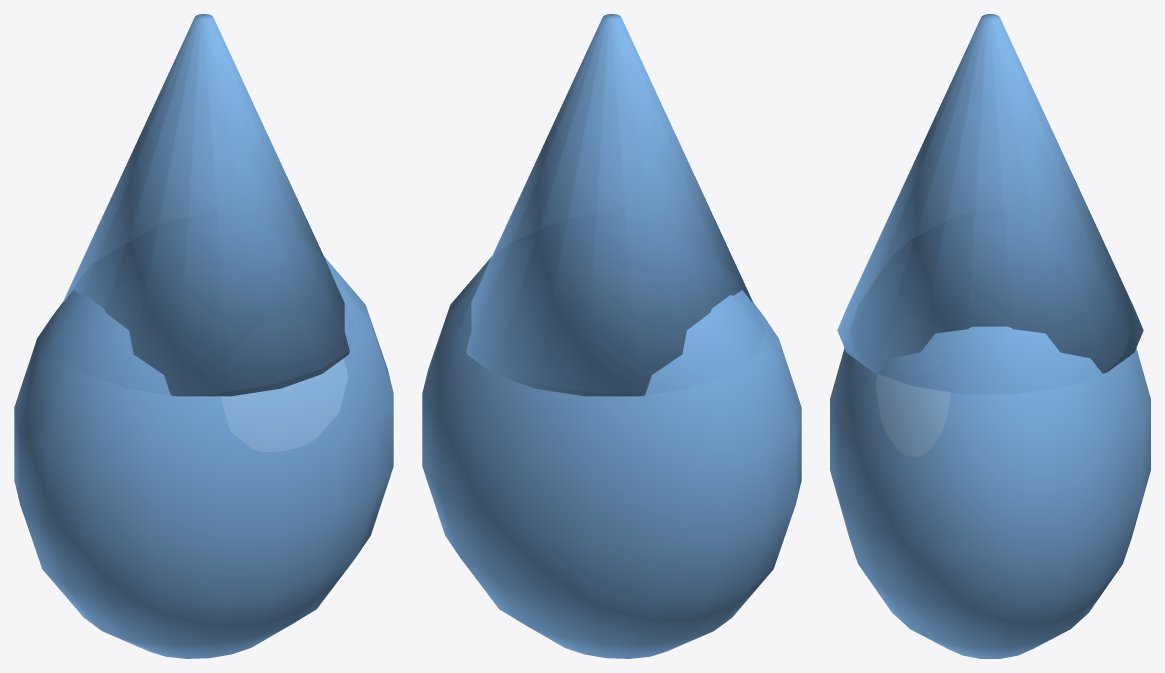
File: xy_item_imprint_drop.glb
3 renders of one model, left to right at view 1: azimuth 30°, elevation 25°; view 2: azimuth 150°, elevation 25°; view 3: azimuth 270°, elevation 25°, orthographic.
Visible parts, largest first — view 1: DropBody, DropTip; view 2: DropBody, DropTip; view 3: DropBody, DropTip.
Boxes of the visible parts, <box> form: DropBody: <box>14,256,393,658</box>; DropTip: <box>63,14,349,396</box>; DropBody: <box>422,256,801,658</box>; DropTip: <box>466,14,752,396</box>; DropBody: <box>830,326,1150,658</box>; DropTip: <box>837,14,1143,373</box>.
Size of the model in its own units: 0.4073 by 0.72 by 0.3348.
